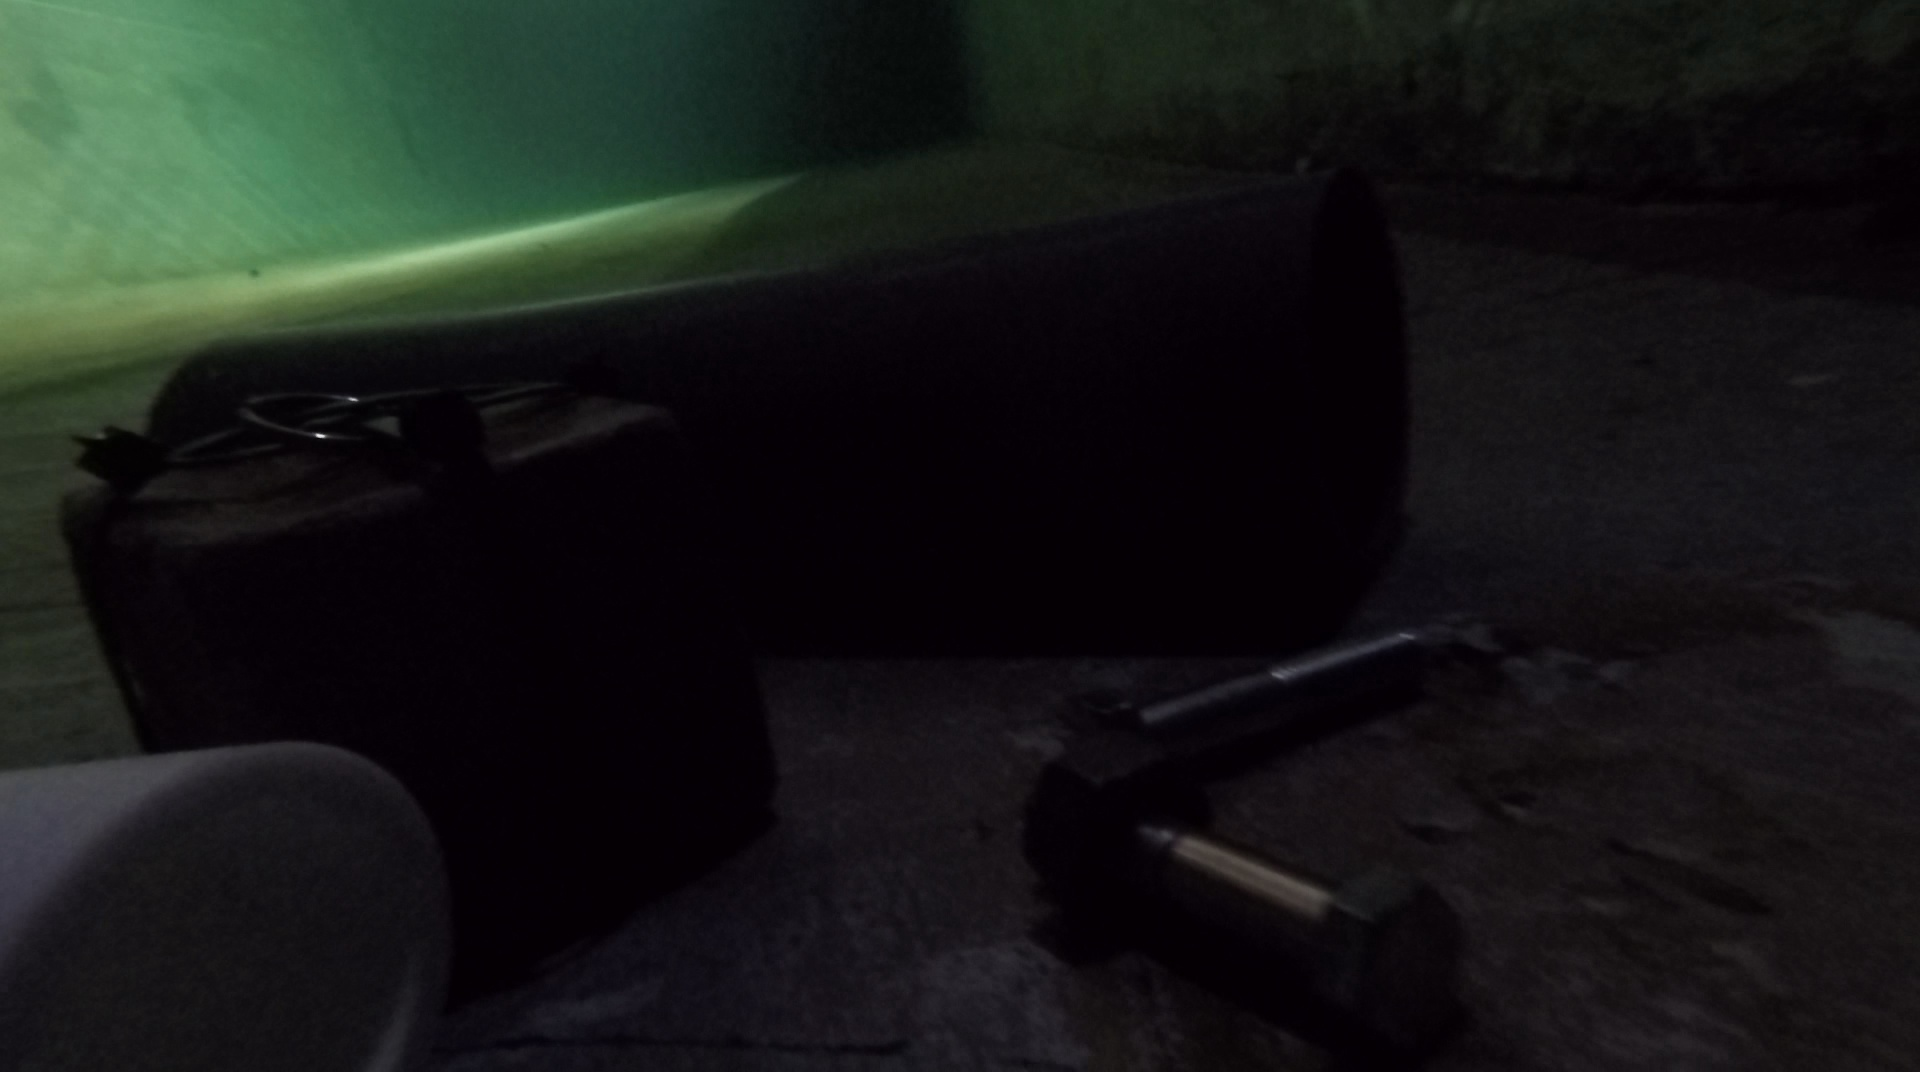bolt: (1031, 752, 1462, 1011), (1065, 626, 1431, 765)
led_block: (57, 371, 771, 941)
nut: (1025, 733, 1211, 912)
pipe: (152, 160, 1416, 621), (1, 738, 454, 1065)
